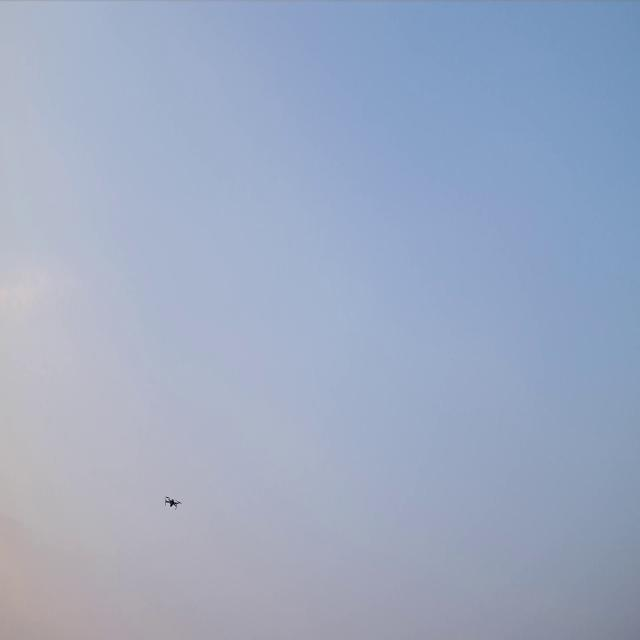UAV: (162, 495, 182, 511)
